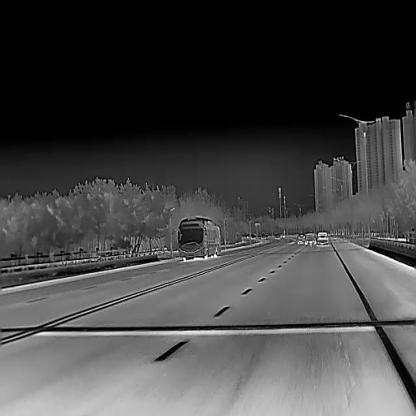car: (178, 216, 220, 260), (316, 230, 328, 245), (304, 232, 316, 246), (297, 232, 306, 244)
